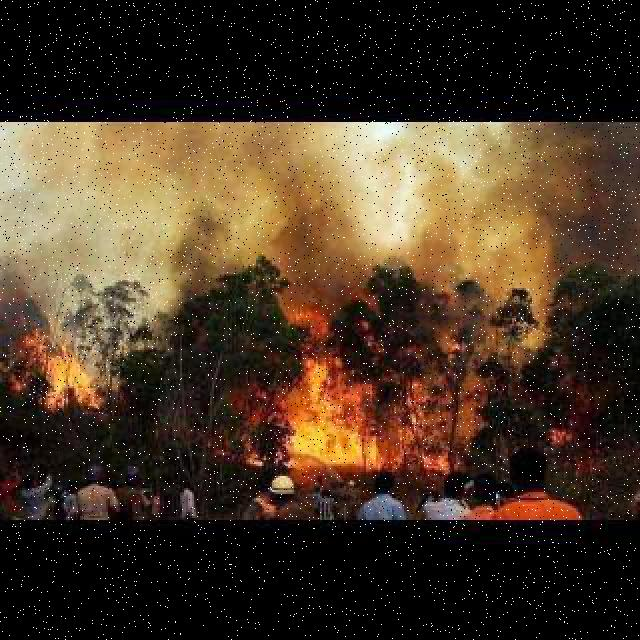fire: (289, 366, 387, 468), (16, 344, 104, 412)
smoke: (60, 128, 640, 316)
